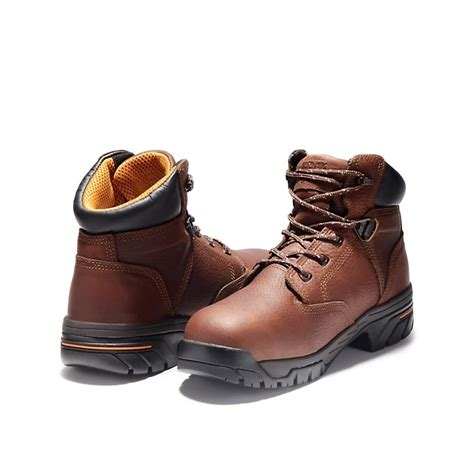cuero: (59, 148, 413, 362)
